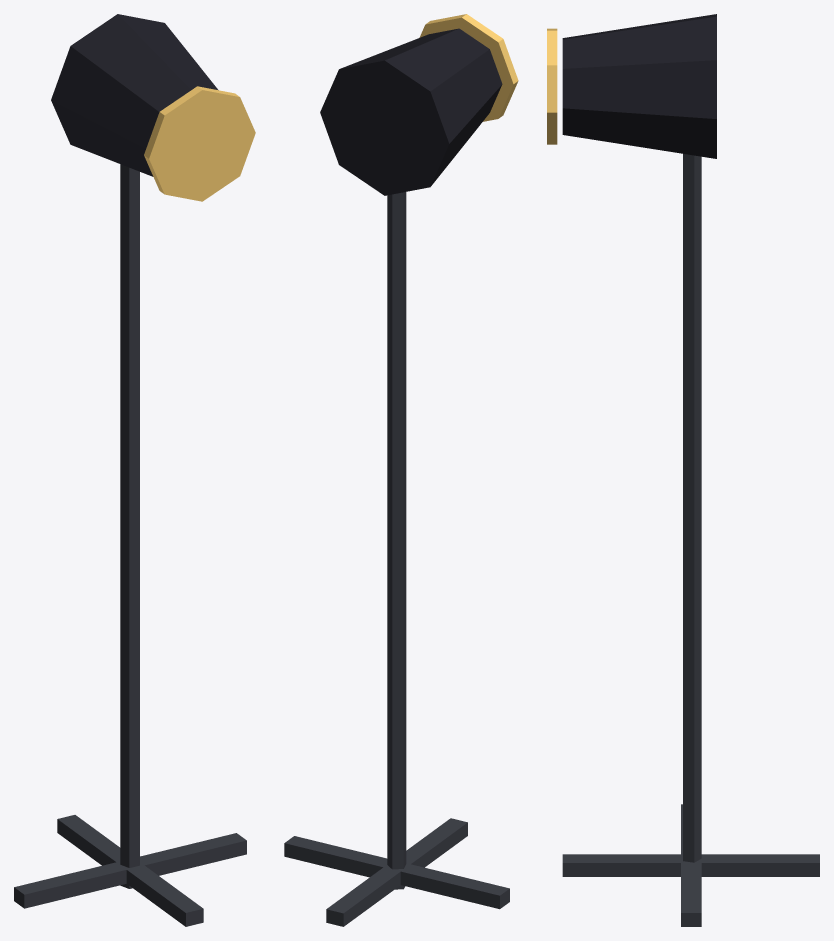
File: spotlight_stand.fbx
3 views of the same model, side by side, from view 1: azimuth 30°, elevation 25°; view 2: azimuth 150°, elevation 25°; view 3: azimuth 270°, elevation 25° (orthographic). The views are drawn at different scales.
Parts seen in each view (by area): view 1: spotlight_stand; view 2: spotlight_stand; view 3: spotlight_stand.
Boxes of the visible parts, <box> form: spotlight_stand: <box>14,14,255,926</box>; spotlight_stand: <box>284,14,518,926</box>; spotlight_stand: <box>547,14,819,926</box>.
Bounding box in the file's own units: 0.5 × 1.85 × 0.53.
